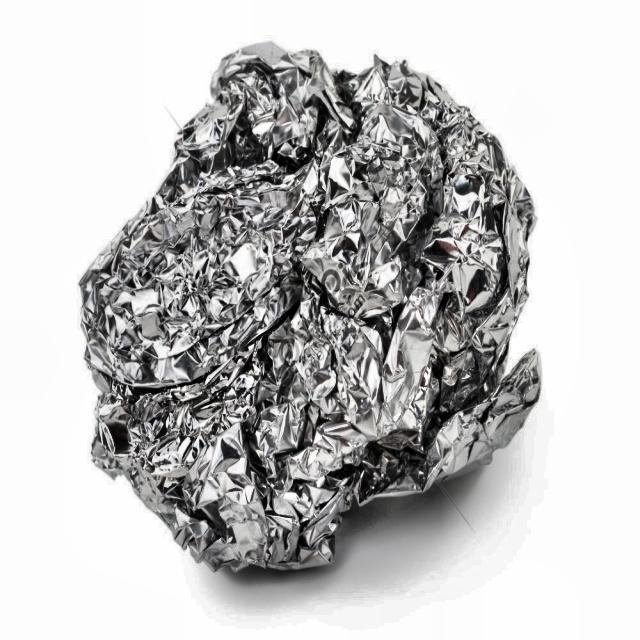Foil: (75, 30, 557, 596)
